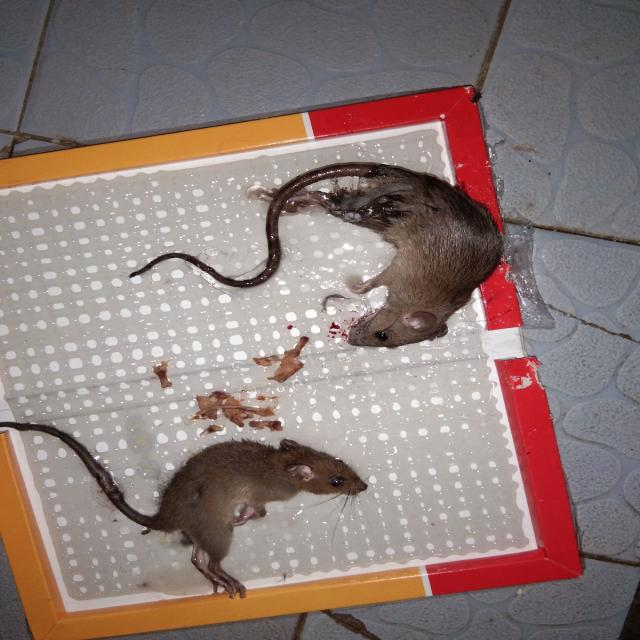rat: (260, 175, 523, 365), (134, 435, 378, 609)
